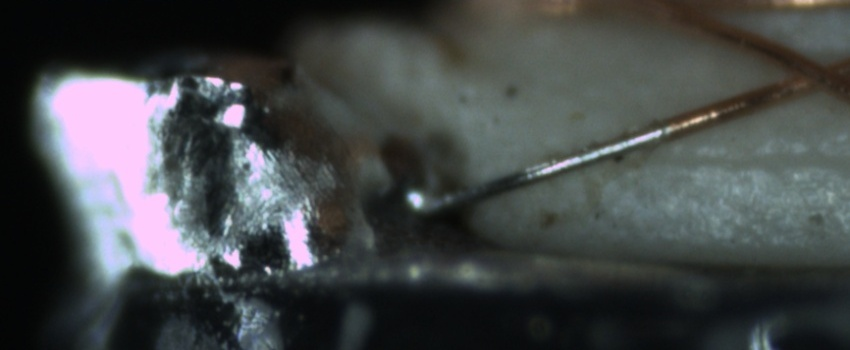CL: (767, 44, 847, 103)
DL: (634, 130, 850, 194)
TS: (410, 122, 669, 218)
